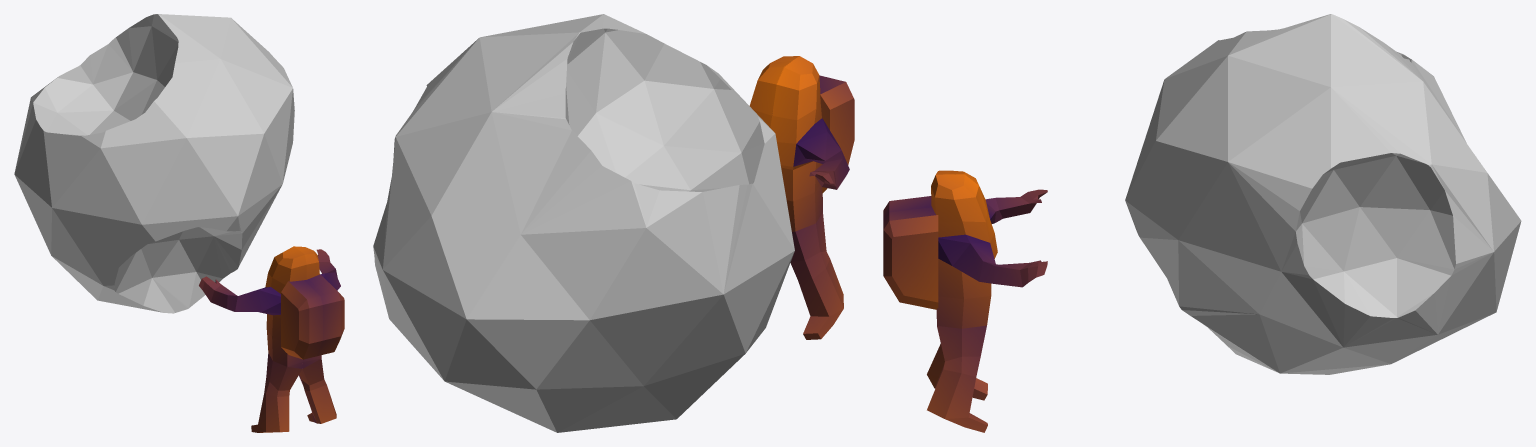
The model's file is spaceman.obj.
3 renders of one model, left to right at view 1: azimuth 30°, elevation 25°; view 2: azimuth 150°, elevation 25°; view 3: azimuth 270°, elevation 25°, orthographic. The views are drawn at different scales.
Parts seen in each view (by area): view 1: Icosphere, Cube_Cube.001; view 2: Icosphere, Cube_Cube.001; view 3: Icosphere, Cube_Cube.001.
Part boxes in pixels (left/top/right/bottom): Icosphere: left=14, top=14, right=294, bottom=313; Cube_Cube.001: left=199, top=246, right=344, bottom=432; Icosphere: left=373, top=14, right=794, bottom=432; Cube_Cube.001: left=749, top=56, right=854, bottom=339; Icosphere: left=1125, top=14, right=1521, bottom=374; Cube_Cube.001: left=883, top=170, right=1047, bottom=432.
Size of the model in its own units: 1.46 by 1.72 by 2.46.
